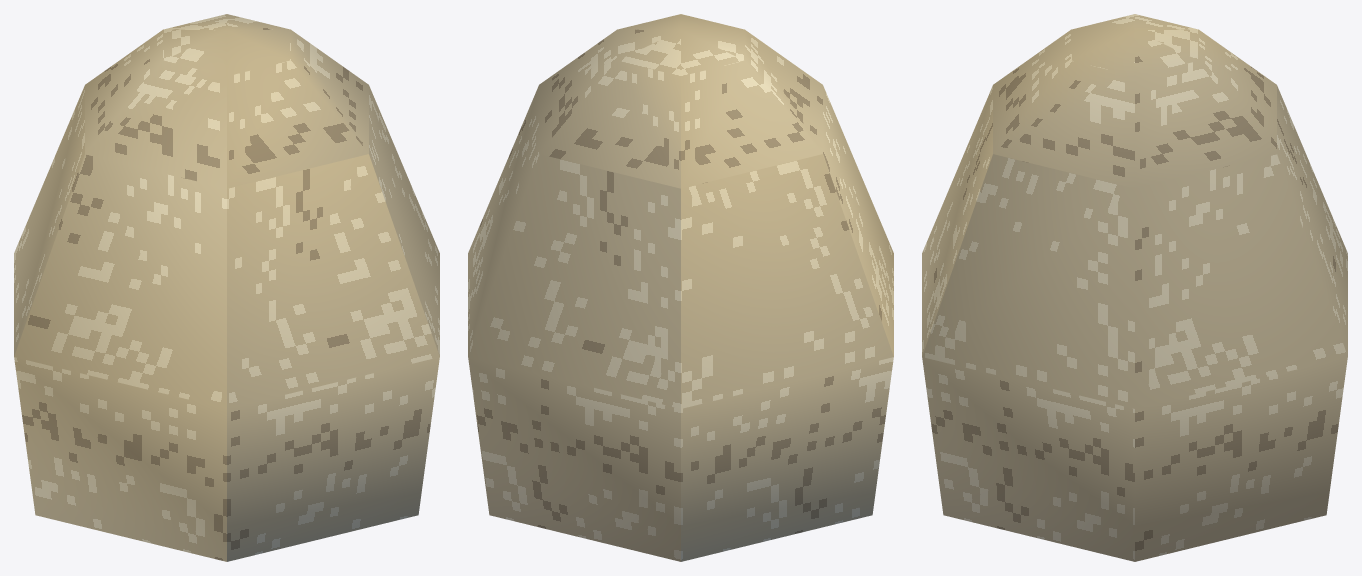
Rendered from mprop.sack.glb.
The picture shows the model from 3 angles, left to right: view 1: azimuth 30°, elevation 25°; view 2: azimuth 150°, elevation 25°; view 3: azimuth 270°, elevation 25°; orthographic projection.
Parts seen in each view (by area): view 1: kit_sacks; view 2: kit_sacks; view 3: kit_sacks.
Boxes of the visible parts, x1,y1,x2,y2 form: kit_sacks: (14,14,439,561); kit_sacks: (468,14,893,561); kit_sacks: (922,14,1347,561).
Size of the model in its own units: 0.6 by 0.62 by 0.5196.
Materials: 2 (2 with a texture image).
